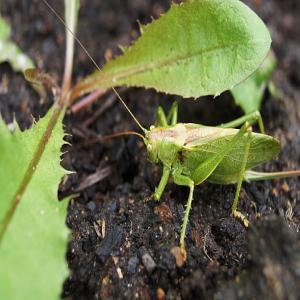locust: (96, 70, 300, 242)
